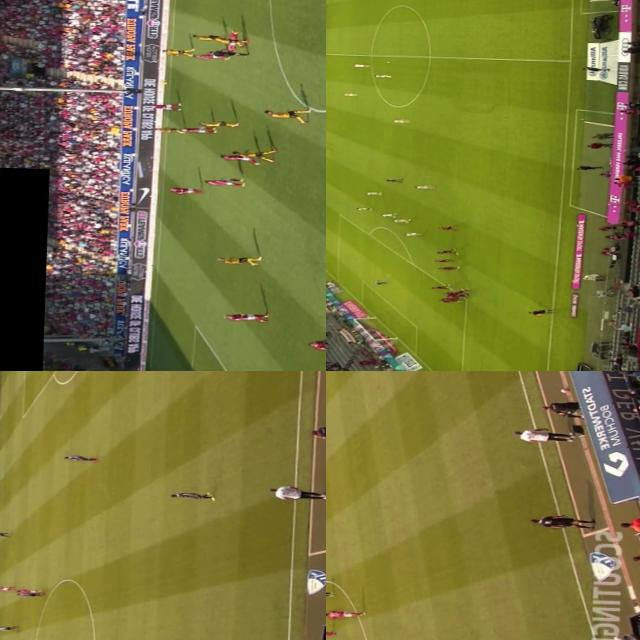ball: (385, 58, 391, 62)
player: (261, 105, 309, 121), (58, 449, 102, 466), (165, 488, 219, 501), (211, 252, 258, 266), (220, 310, 266, 322), (230, 148, 274, 160), (326, 607, 366, 619), (218, 151, 260, 162), (202, 176, 246, 186), (162, 184, 200, 193), (180, 124, 216, 133), (192, 51, 226, 60), (212, 34, 245, 43), (190, 32, 224, 40), (152, 101, 182, 110), (307, 337, 326, 351), (225, 29, 236, 52), (195, 119, 231, 126), (14, 589, 38, 598), (159, 48, 193, 54), (412, 182, 434, 190), (436, 247, 458, 254), (0, 528, 13, 539), (0, 580, 13, 591), (394, 216, 411, 224), (0, 624, 19, 631), (438, 264, 460, 270), (15, 588, 37, 594), (434, 257, 453, 263), (154, 126, 182, 130), (364, 190, 382, 196), (374, 72, 392, 78), (390, 118, 410, 123), (326, 628, 337, 637), (341, 90, 357, 96), (429, 284, 452, 288), (443, 290, 461, 295), (438, 224, 456, 229), (380, 211, 398, 216), (372, 278, 387, 284), (352, 61, 370, 66), (442, 296, 464, 300), (438, 298, 460, 302), (326, 588, 335, 597), (448, 293, 468, 297), (402, 230, 422, 234), (355, 205, 371, 210), (452, 289, 469, 293), (372, 72, 378, 74)
